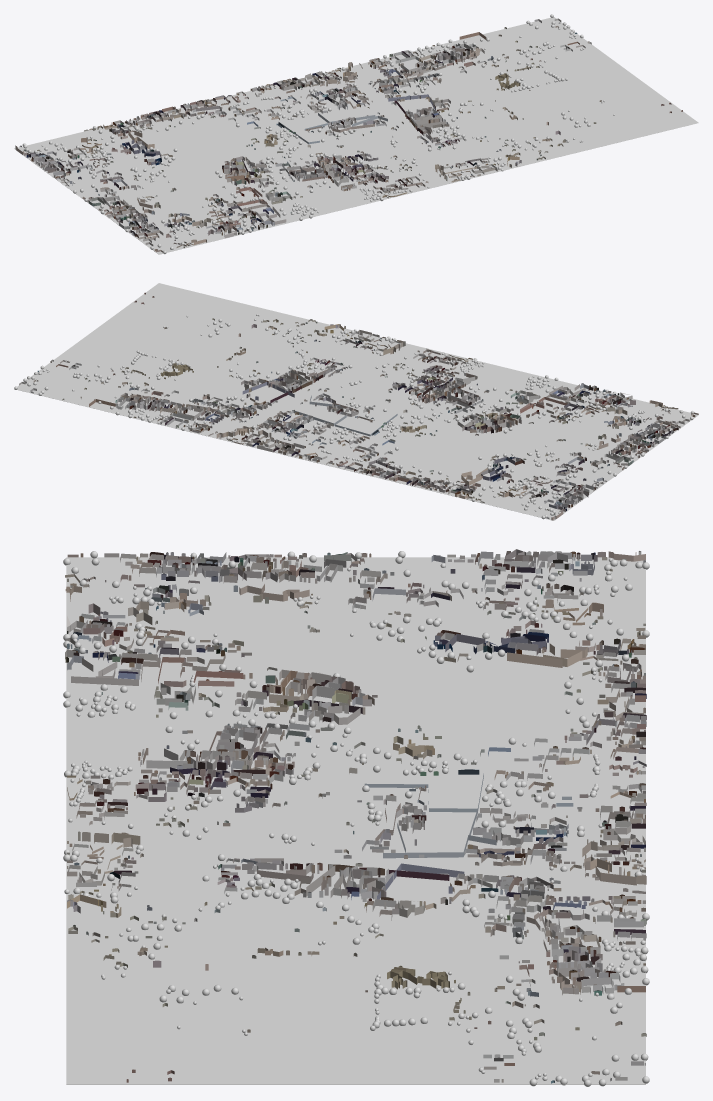
3 renders of one model, top to bottom at view 1: azimuth 30°, elevation 25°; view 2: azimuth 150°, elevation 25°; view 3: azimuth 270°, elevation 25°, orthographic. The views are drawn at different scales.
Visible parts, largest first — view 1: Ground_Base; view 2: Ground_Base; view 3: Ground_Base, BLD-123.
Boxes of the visible parts, x1=… form: Ground_Base: x1=14, y1=17, x2=698, y2=254; Ground_Base: x1=17, y1=283, x2=698, y2=520; Ground_Base: x1=66, y1=557, x2=645, y2=1084; BLD-123: x1=507, y1=643, x2=587, y2=667.
Size of the model in its own units: 1980 by 28.11 by 926.
